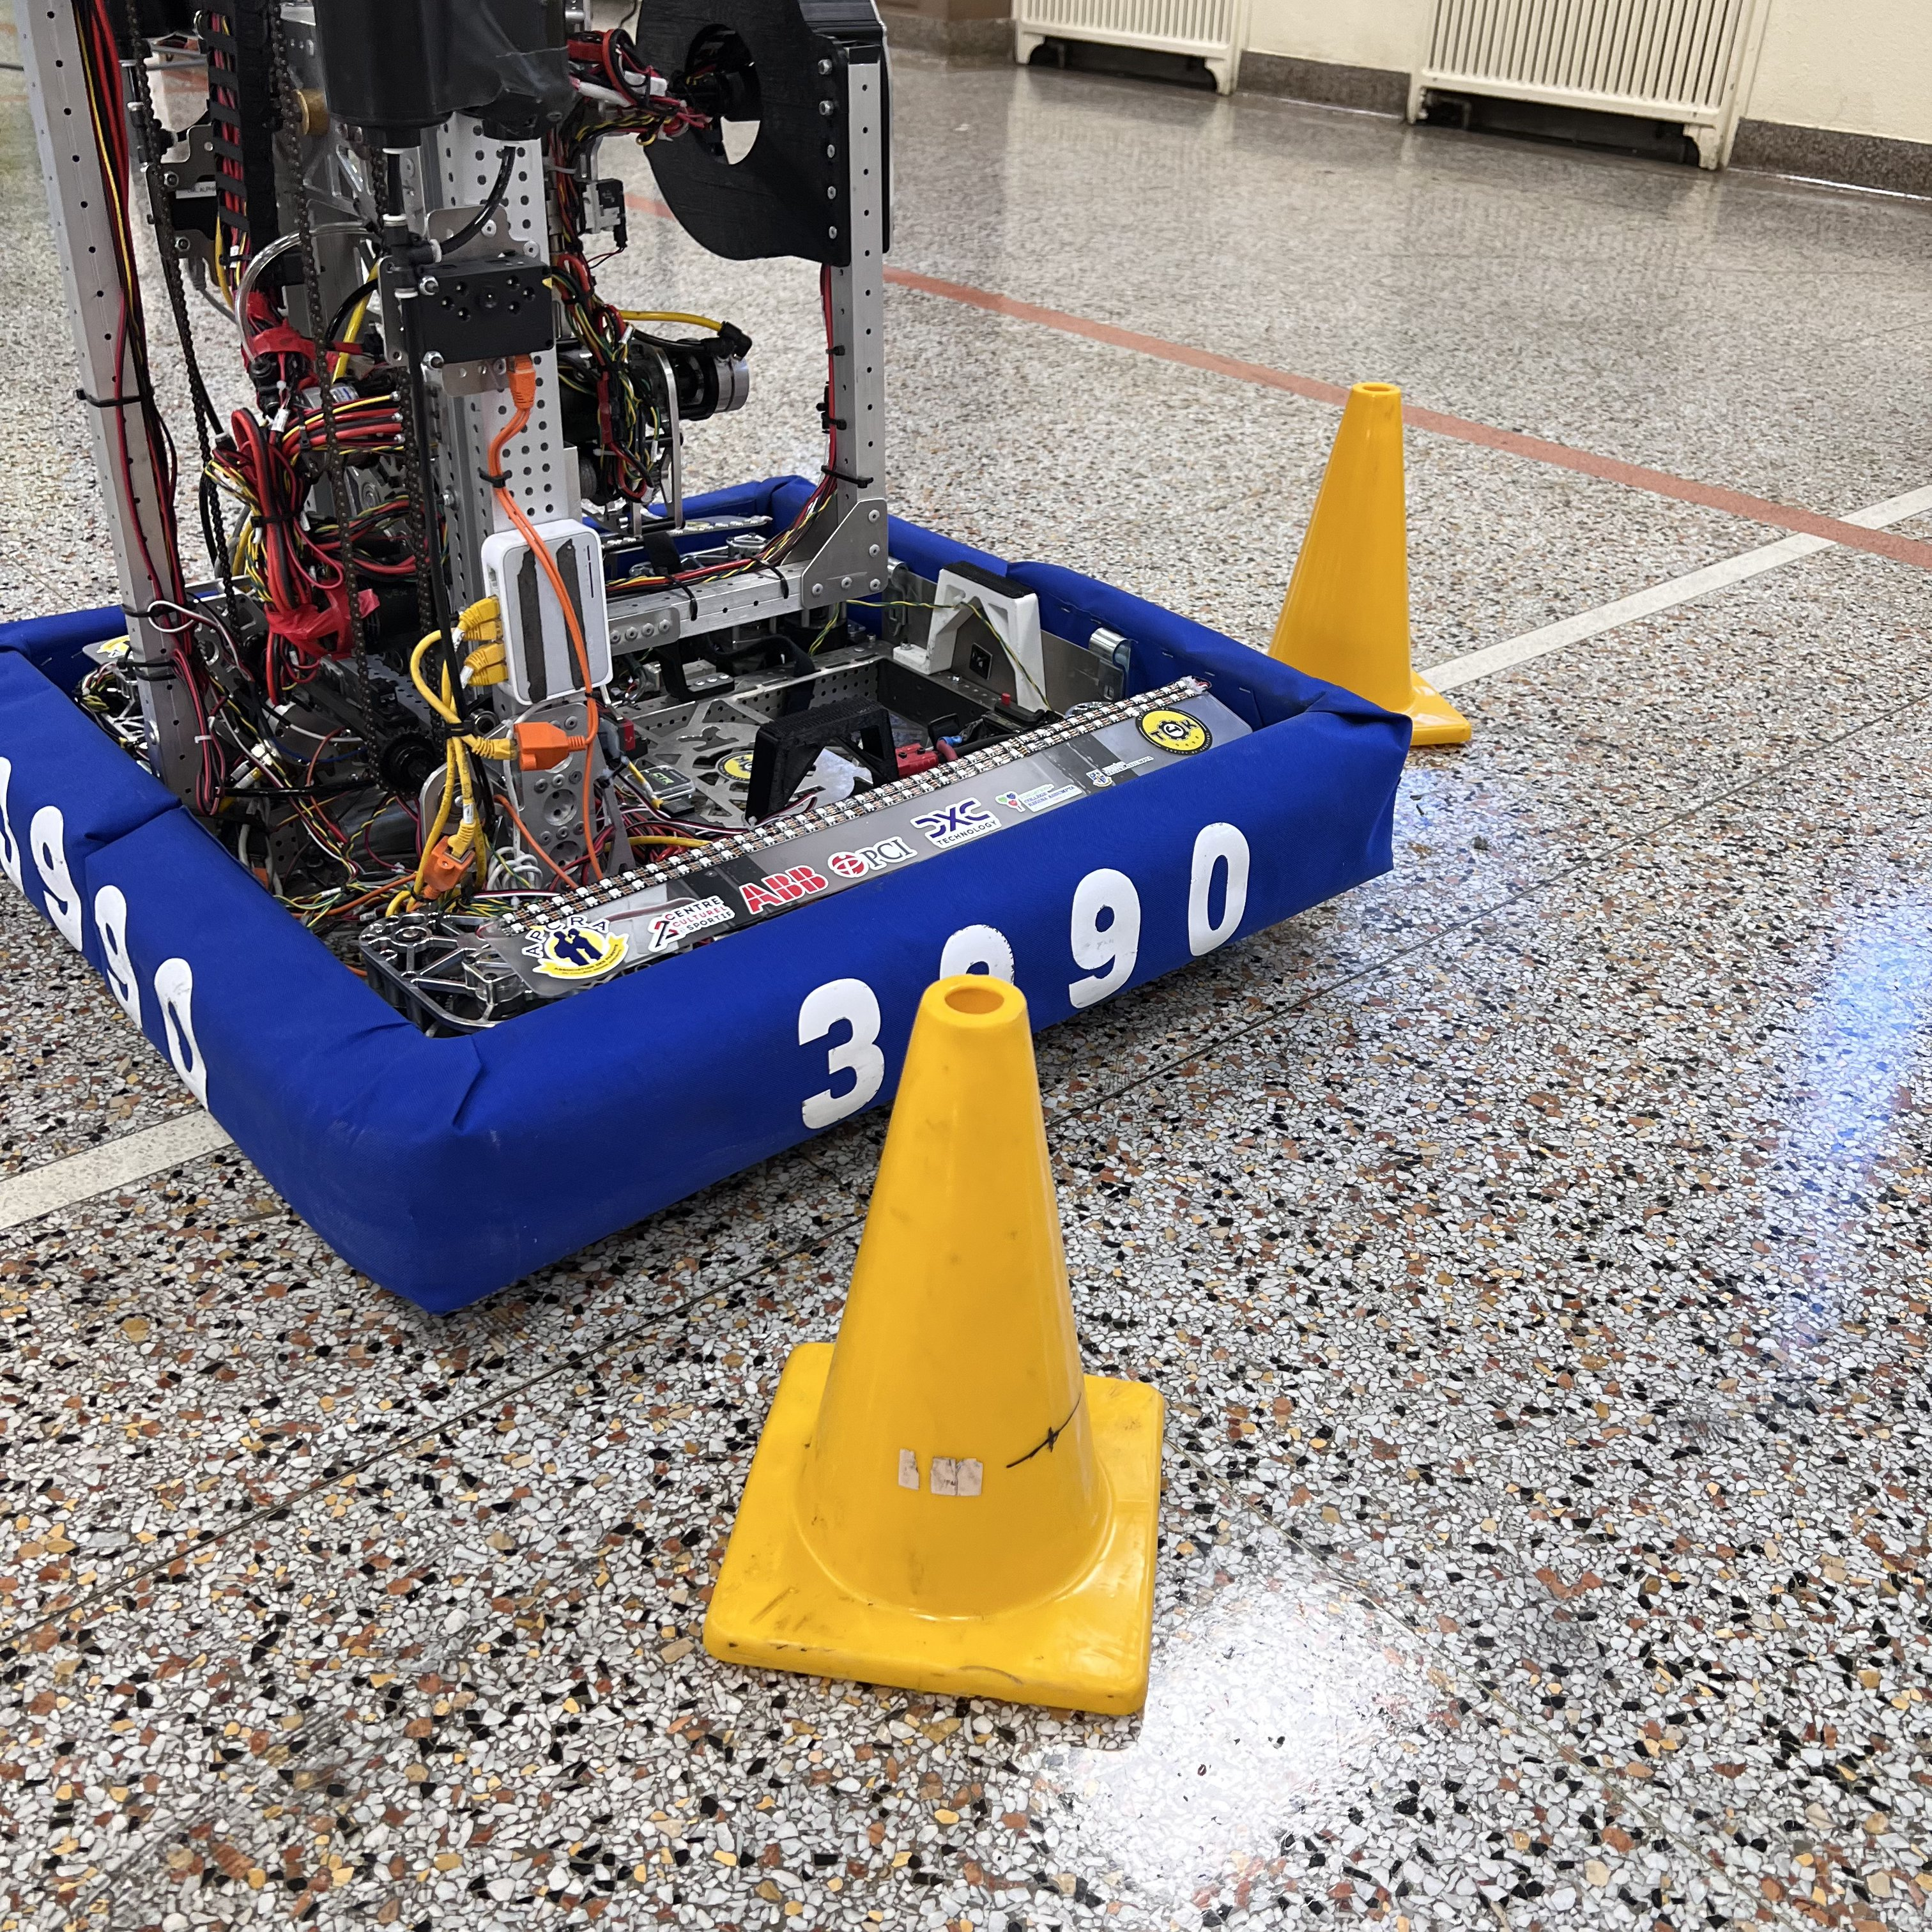cone: (701, 978, 1166, 1716), (1249, 379, 1474, 754)
